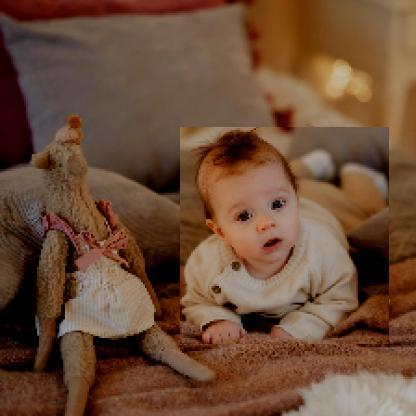child: (181, 128, 391, 346)
